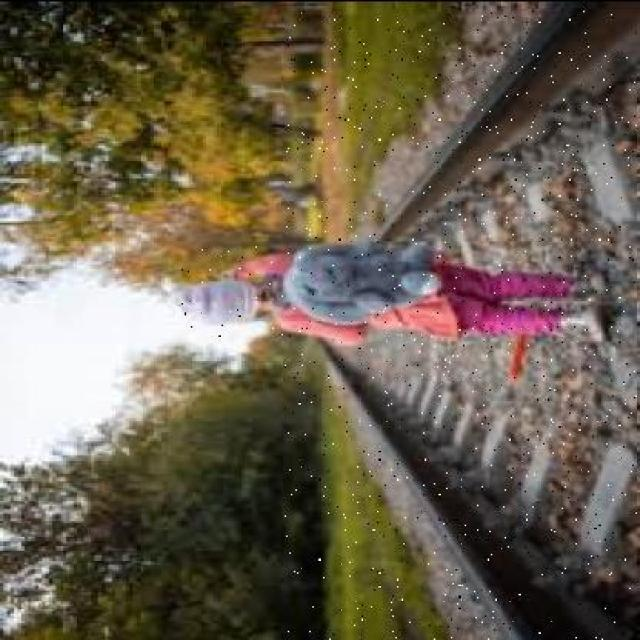danger: (182, 240, 616, 351)
rail: (285, 9, 637, 638)
